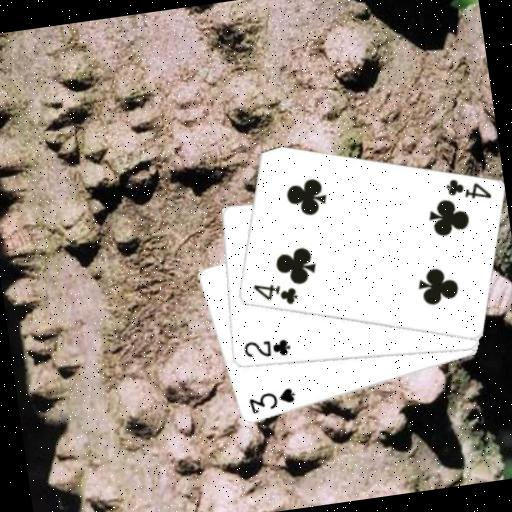2C: (240, 334, 293, 364)
3S: (244, 385, 298, 417)
4C: (441, 171, 493, 206), (249, 277, 300, 312)
